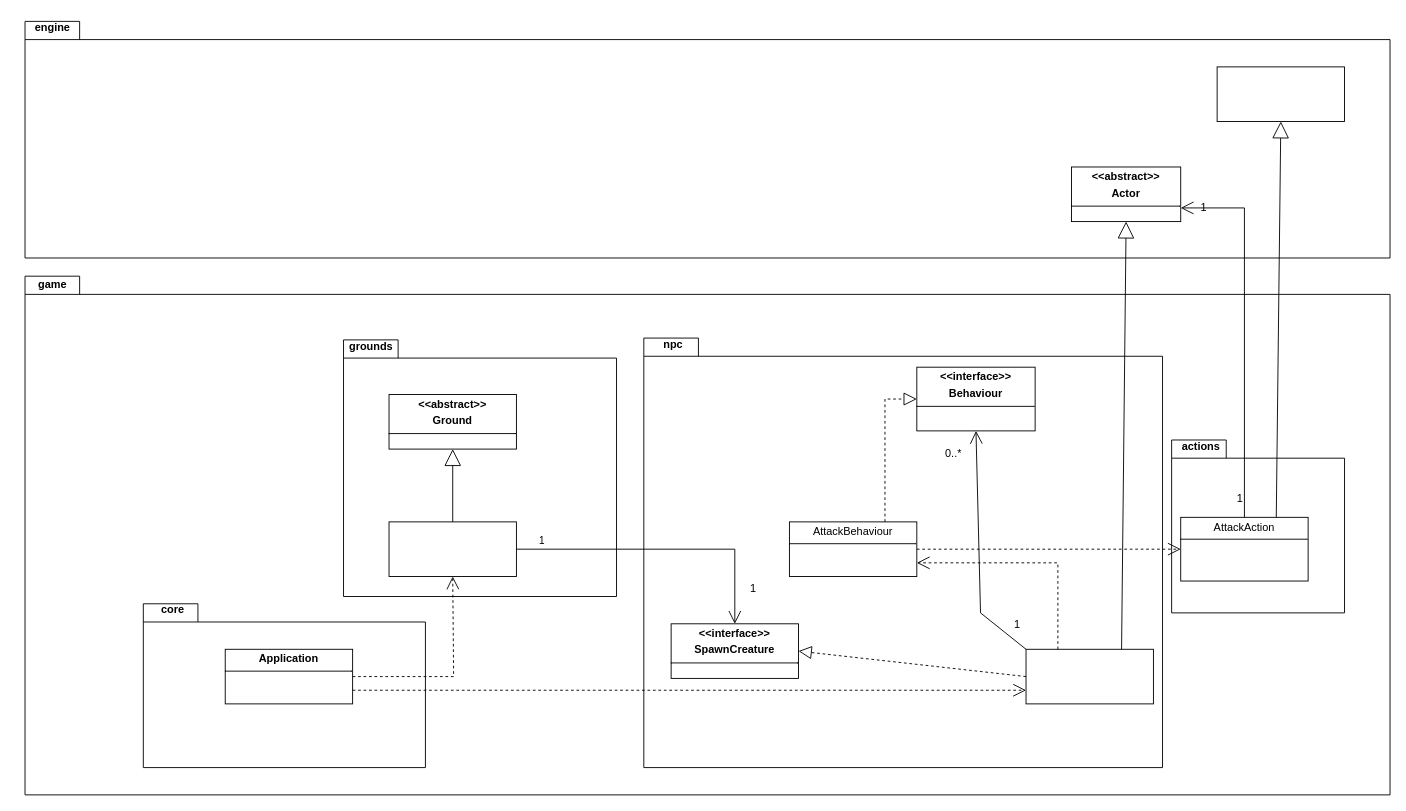
Image size: 1406x811. Some labels were removed from this diagram. Each missing label, with the box of its shape:
<<abstract>> Action: (1216, 66, 1345, 121)
Crater: (388, 521, 516, 576)
HuntsmanSpider: (1025, 648, 1153, 704)
